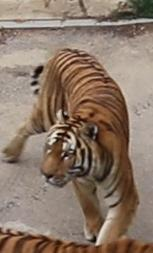tiger: (3, 49, 137, 243)
